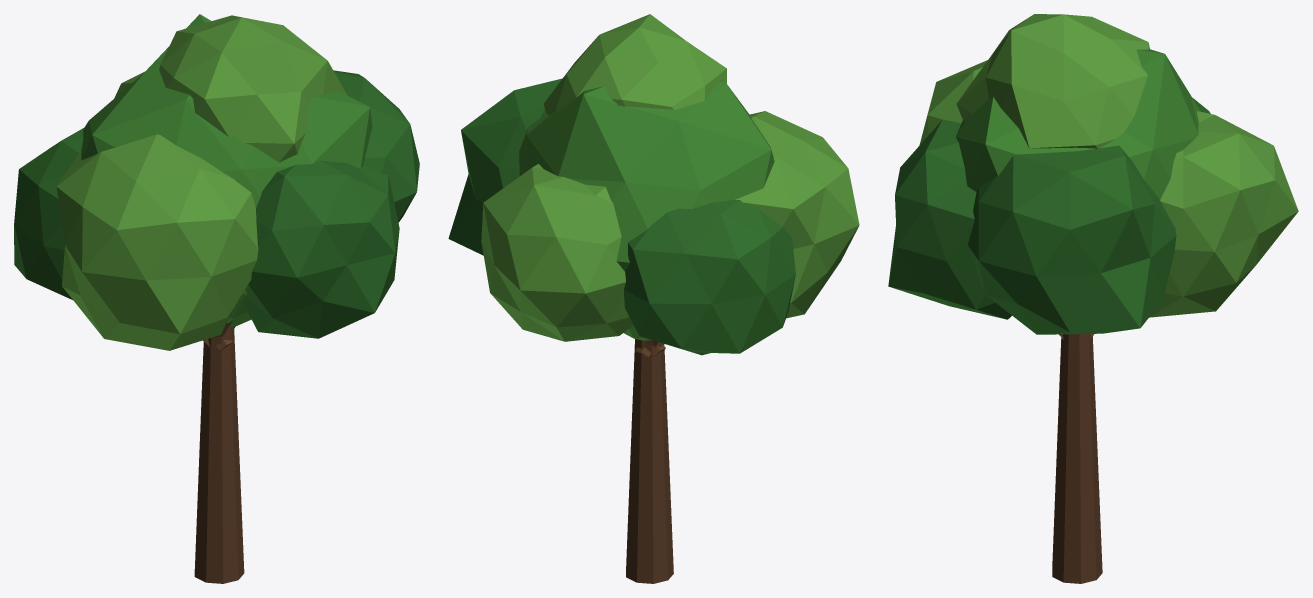
Rendered from Tree_Oak_B.fbx.
3 views of the same model, side by side, from view 1: azimuth 30°, elevation 25°; view 2: azimuth 150°, elevation 25°; view 3: azimuth 270°, elevation 25° (orthographic). The views are drawn at different scales.
Visible parts, largest first — view 1: Tree_Oak_B; view 2: Tree_Oak_B; view 3: Tree_Oak_B.
Boxes of the visible parts, x1,y1,x2,y2 form: Tree_Oak_B: (14, 14, 419, 583); Tree_Oak_B: (448, 14, 859, 583); Tree_Oak_B: (888, 14, 1298, 583).
Size of the model in its own units: 3.24 by 4.81 by 3.15.
